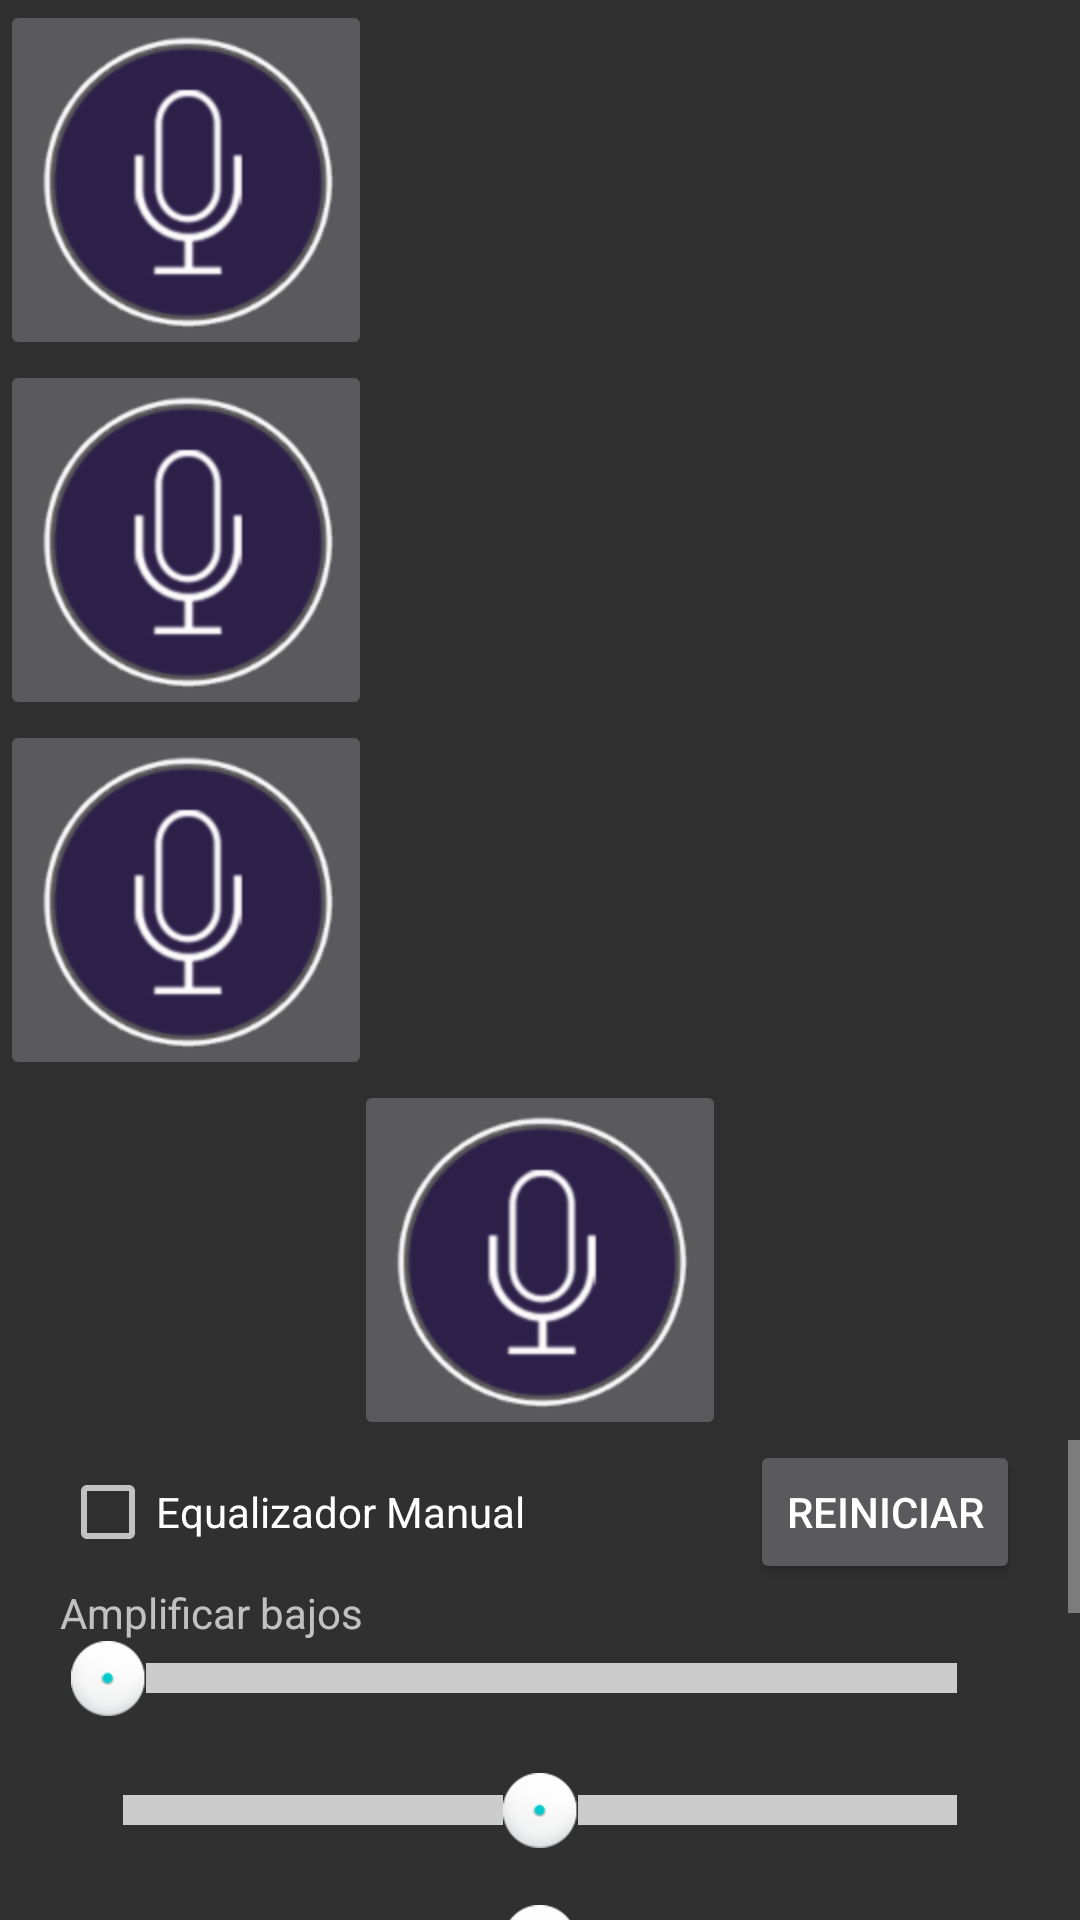

Screen size 1080x1920. Icon name, then its box in pixels as (x1, y1, x2, y2):
mic: (12, 18, 360, 342), (12, 378, 360, 702), (12, 738, 360, 1062), (366, 1098, 714, 1422)
